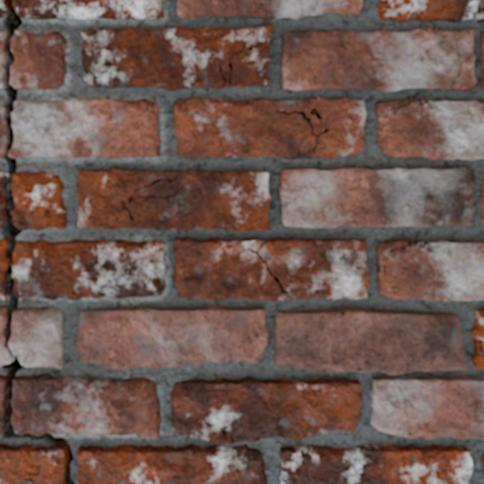brick: (274, 308, 467, 374), (170, 377, 361, 443), (282, 28, 476, 91), (81, 25, 271, 89), (174, 238, 369, 300), (78, 168, 270, 230), (77, 306, 267, 368), (279, 167, 475, 227), (173, 98, 365, 159), (280, 445, 471, 483), (77, 445, 266, 483), (371, 376, 483, 438), (376, 239, 483, 300), (375, 100, 483, 160), (177, 0, 362, 19), (0, 444, 65, 483), (379, 0, 483, 21), (471, 309, 483, 368), (480, 33, 483, 88), (481, 181, 483, 223), (253, 241, 262, 249)
broken_brick: (12, 372, 161, 438), (9, 97, 160, 159), (14, 239, 166, 300), (11, 30, 67, 90), (10, 306, 63, 369), (12, 171, 67, 231), (14, 0, 164, 20), (0, 305, 11, 367), (0, 237, 7, 300), (0, 30, 6, 90), (0, 169, 6, 226), (0, 374, 5, 435), (0, 105, 4, 158), (0, 0, 4, 18)
crack: (0, 0, 74, 483), (238, 240, 287, 295), (210, 40, 256, 87), (382, 241, 433, 277), (386, 98, 433, 112), (450, 52, 462, 87), (233, 380, 255, 390), (478, 337, 483, 353), (470, 83, 477, 90), (469, 205, 474, 212), (479, 312, 483, 318), (140, 435, 147, 437)
